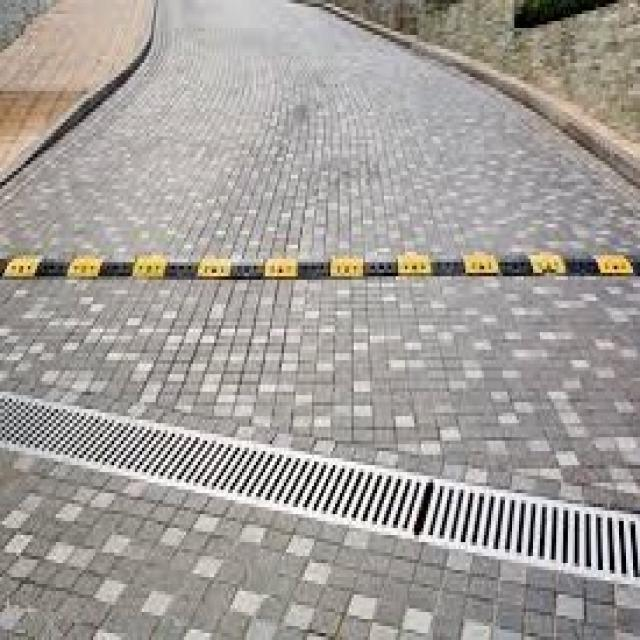Marked Bump: (19, 244, 634, 288)
